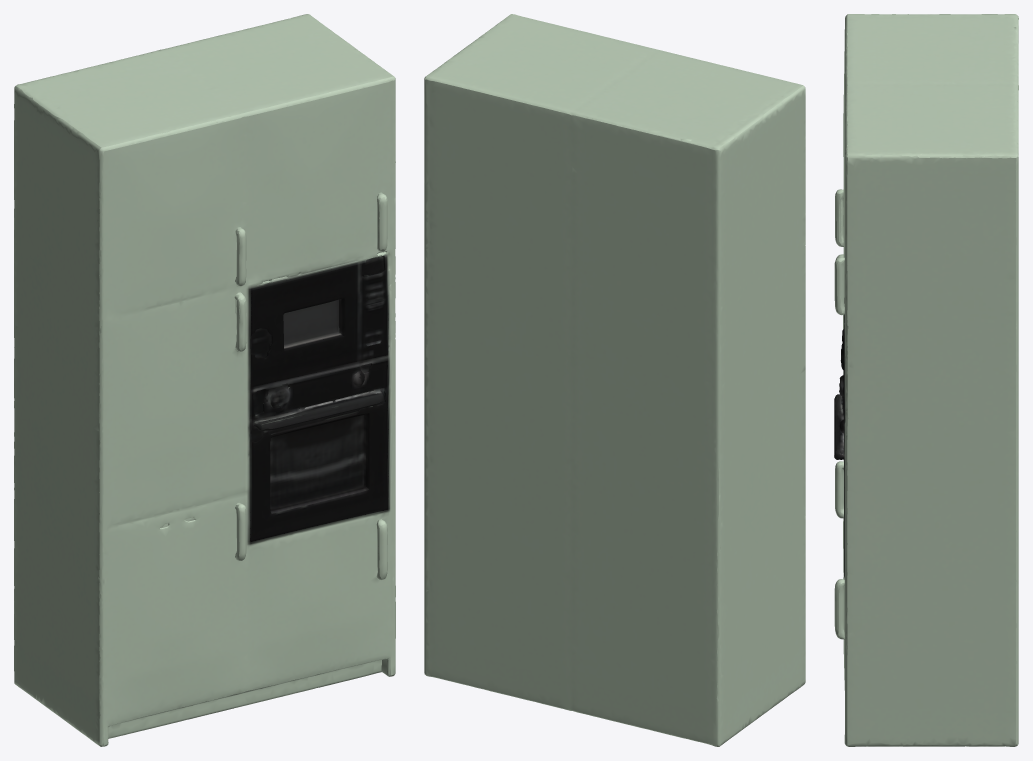
The model's file is item_8056a7cb.glb.
3 renders of one model, left to right at view 1: azimuth 30°, elevation 25°; view 2: azimuth 150°, elevation 25°; view 3: azimuth 270°, elevation 25°, orthographic.
Visible parts, largest first — view 1: world; view 2: world; view 3: world.
Part boxes in pixels (x1,y1,x2,y2): world: (14,14,395,746); world: (424,14,805,746); world: (834,14,1018,746).
Size of the model in its own units: 1.24 by 2.4 by 0.678.
1 material, 1 textured.
